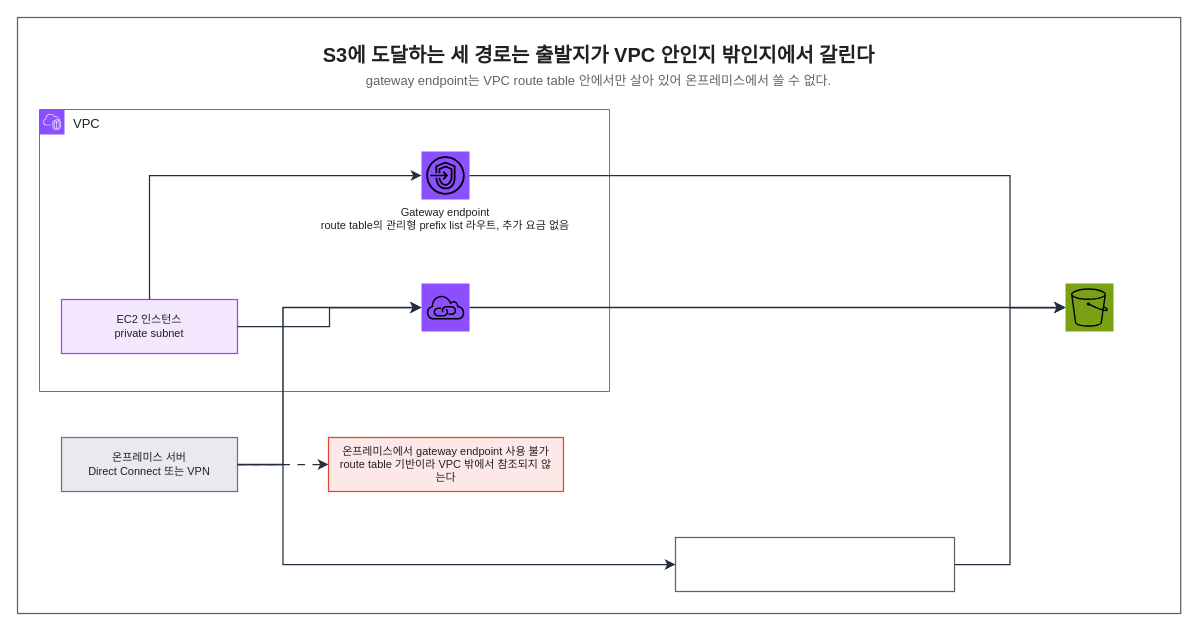
Some shapes in this 1199 by 632 pixel diagram are drawn without their labels. Each missing label, with the box of its shape:
Amazon S3 같은 리전 버킷: (1065, 283, 1113, 331)
Interface endpoint 서브넷 ENI의 private IP, AZ당 10에서 100 Gbps: (421, 283, 469, 331)
S3 public endpoint public VIF 경로. endpoint policy가 적용되지 않는다: (674, 536, 955, 592)
